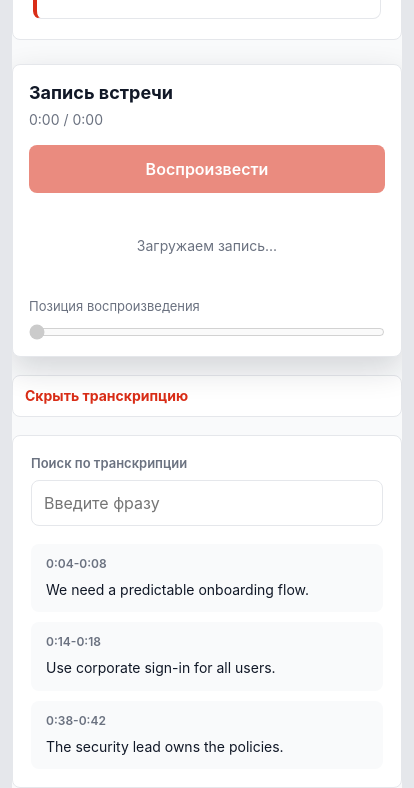
can collapse the transcript panel for the compact workspace layout
(page scrolled)
Expected: the element with id "specification-transcript-panel" is shown, [12,434,402,787]
Click the button "Скрыть транскрипцию" at (107, 396), box [12,374,402,416]
(page scrolled)
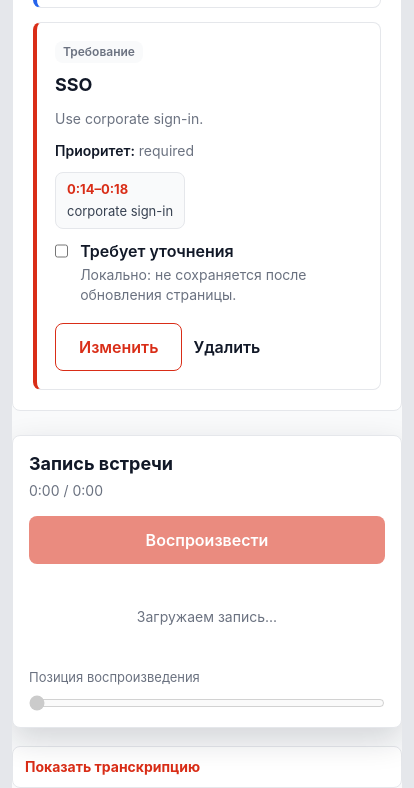
Result: the button "Показать транскрипцию" is collapsed at [12,746,402,787]
